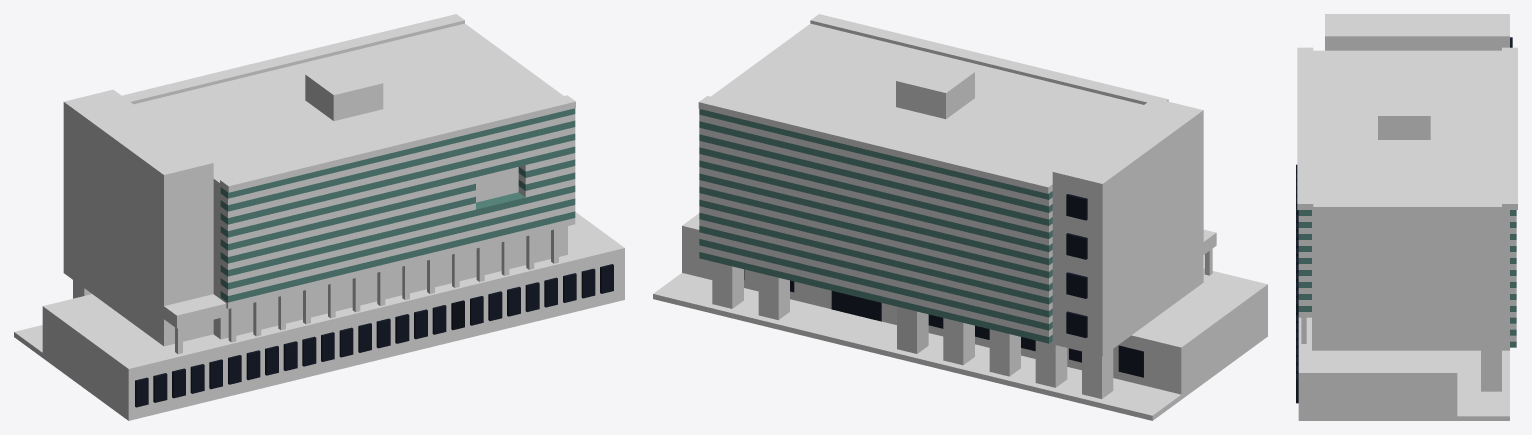
3 renders of one model, left to right at view 1: azimuth 30°, elevation 25°; view 2: azimuth 150°, elevation 25°; view 3: azimuth 270°, elevation 25°, orthographic. The views are drawn at different scales.
Visible parts, largest first — view 1: Cube.116; view 2: Cube.116; view 3: Cube.116.
Part boxes in pixels (x1,y1,x2,y2): Cube.116: (14, 14, 624, 420); Cube.116: (653, 14, 1267, 420); Cube.116: (1296, 14, 1517, 420).
Bounding box in the file's own units: 20 × 9 × 8.4.
